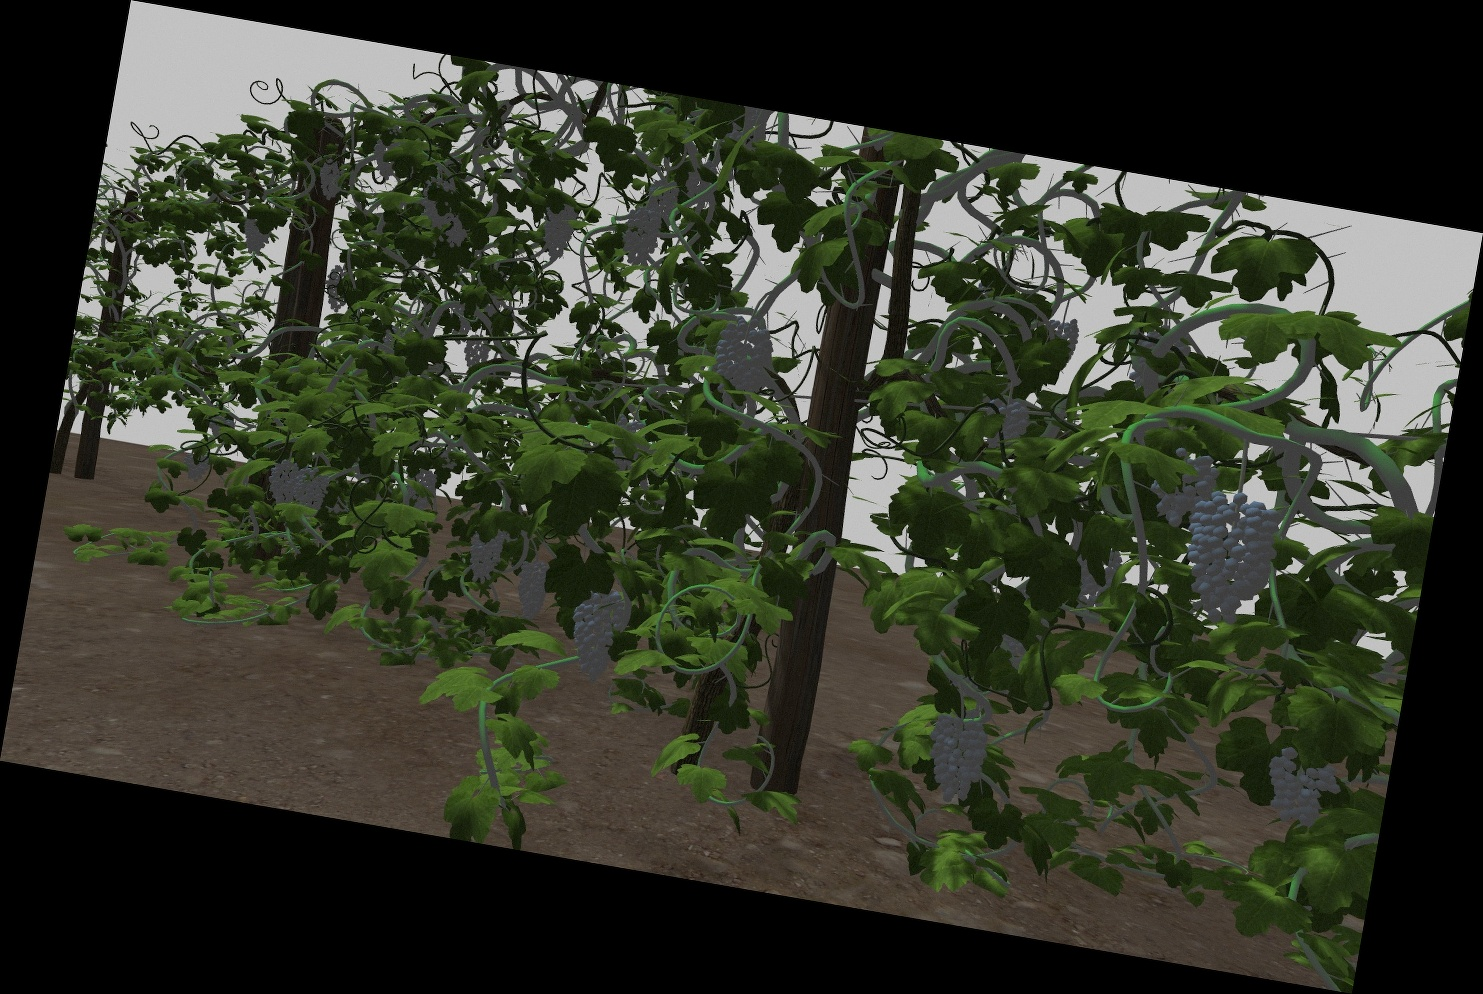grape: (1184, 494, 1273, 628), (1266, 745, 1345, 825), (926, 713, 986, 807), (568, 589, 623, 683), (1150, 447, 1216, 527), (713, 318, 774, 396), (623, 201, 661, 267), (985, 397, 1030, 452), (517, 557, 551, 623), (466, 527, 502, 585), (542, 200, 576, 261), (421, 177, 456, 229), (294, 467, 327, 514), (268, 458, 297, 508), (241, 212, 272, 253), (319, 156, 346, 200), (464, 333, 492, 371), (648, 180, 680, 209), (183, 450, 207, 484)
